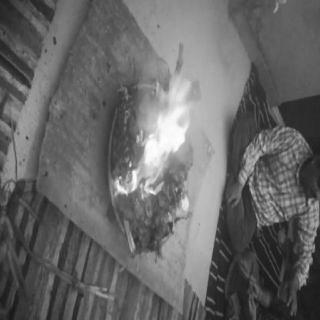other: (162, 180, 192, 232)
